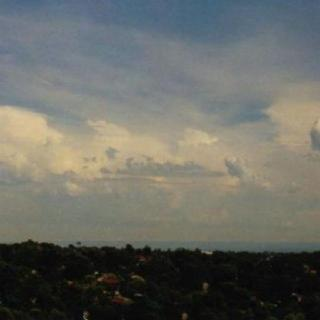Cirrostratus: (0, 55, 320, 211)
